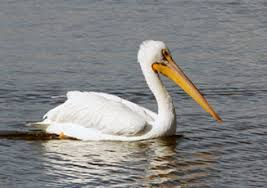pelican: (37, 39, 222, 141)
